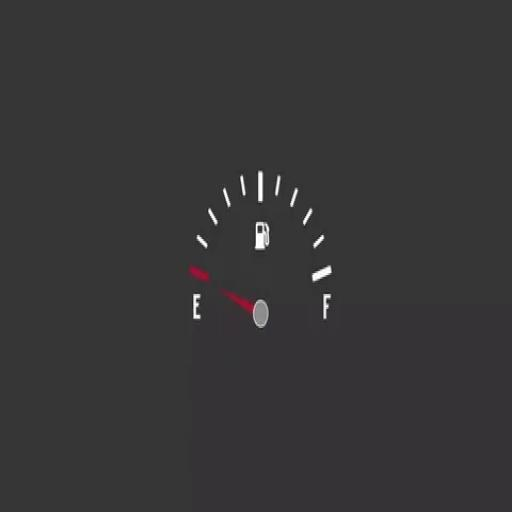empty: (190, 290, 203, 323)
fuel_icon: (255, 217, 267, 252)
full: (321, 287, 331, 321)
guage_area: (178, 162, 333, 344)
needle_center: (248, 293, 268, 331)
needle_tip: (214, 274, 233, 302)
